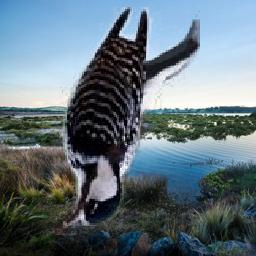Woodpecker: (56, 7, 201, 235)
